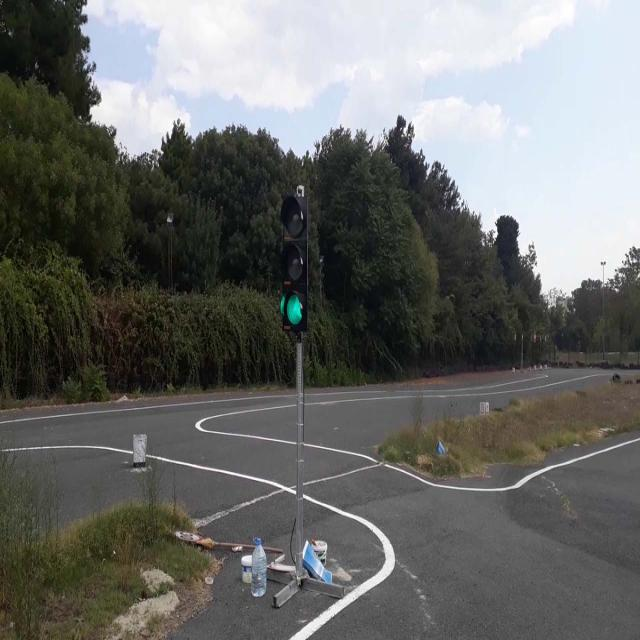yesil: (282, 196, 308, 330)
